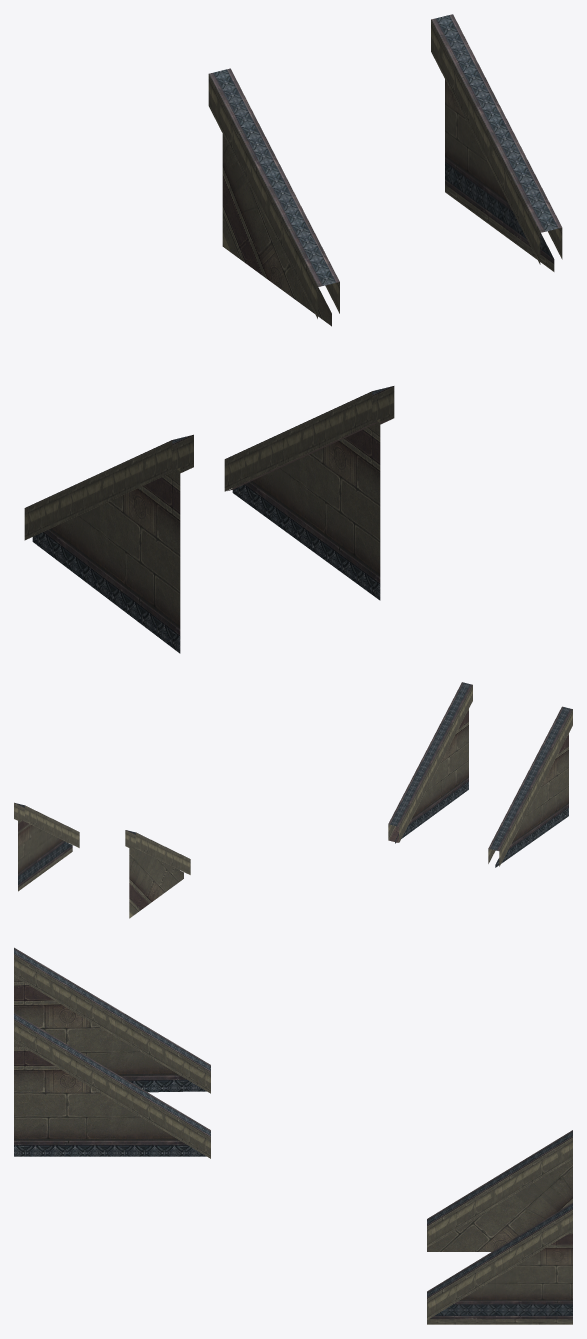
The model's file is dcfx2_louti_01.FBX.
3 views of the same model, one above another, from view 1: azimuth 30°, elevation 25°; view 2: azimuth 150°, elevation 25°; view 3: azimuth 270°, elevation 25° (orthographic). The views are drawn at different scales.
Parts seen in each view (by area): view 1: dcfx2_louti_01; view 2: dcfx2_louti_01; view 3: dcfx2_louti_01.
Boxes of the visible parts, x1,y1,x2,y2 form: dcfx2_louti_01: (24, 14, 562, 653); dcfx2_louti_01: (14, 682, 572, 918); dcfx2_louti_01: (14, 947, 572, 1324).
Size of the model in its own units: 1945 by 604 by 2016.
